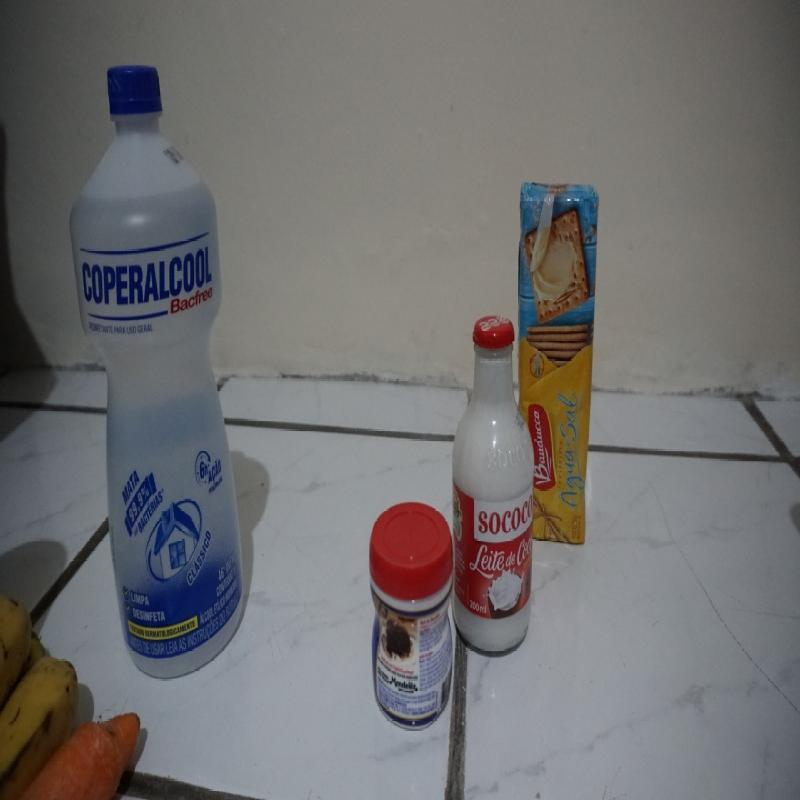Alcohol Bottle: (71, 60, 250, 671)
Banana: (3, 595, 57, 775)
Carrot: (61, 703, 137, 795)
Coconut Milk: (457, 309, 534, 654)
Cracker: (537, 183, 598, 554)
Yeast: (360, 501, 451, 722)
